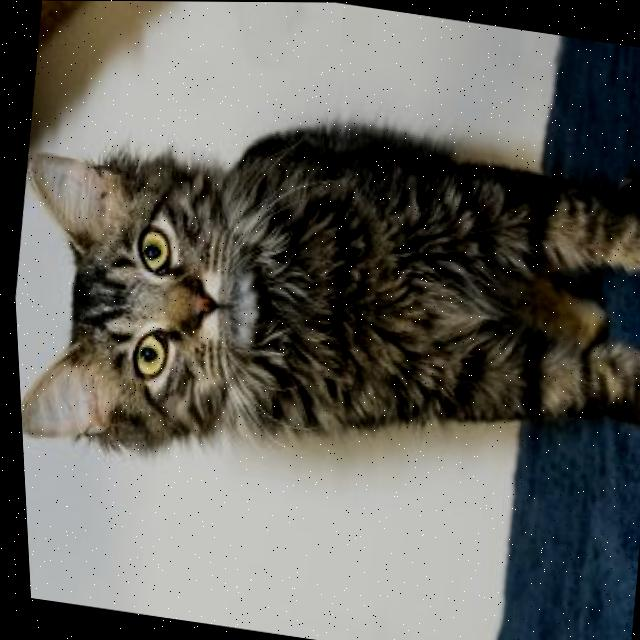Maine Coon: (3, 67, 640, 530)
